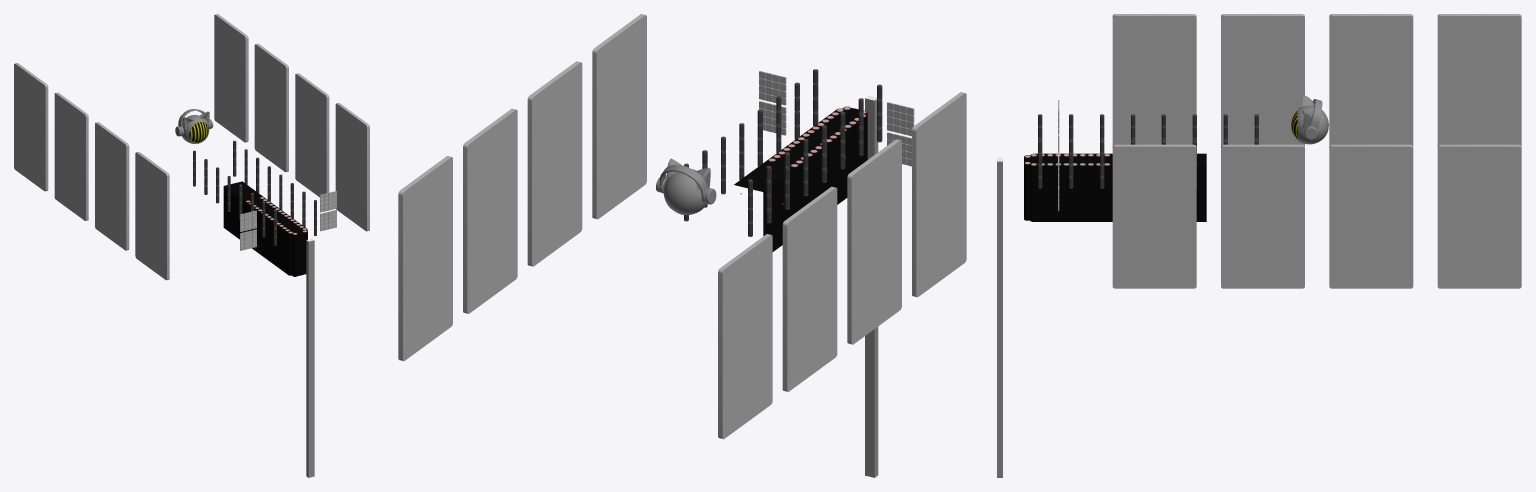
File: monstercat2.glb
The picture shows the model from 3 angles, left to right: view 1: azimuth 30°, elevation 25°; view 2: azimuth 150°, elevation 25°; view 3: azimuth 270°, elevation 25°; orthographic projection. The views are drawn at different scales.
Parts seen in each view (by area): view 1: ScreenMesh (×8), RunwaySides, Construction, TrackMirror_Template, HeadMesh; view 2: ScreenMesh (×8), RunwaySides, Construction, HeadMesh, TrackMirror_Template; view 3: ScreenMesh (×8), RunwaySides, Construction, HeadMesh, TrackMirror_Template.
Part boxes in pixels (x1,y1,x2,y2): ScreenMesh (×8): [14, 14, 369, 280]; RunwaySides: [223, 186, 307, 276]; Construction: [306, 240, 314, 477]; TrackMirror_Template: [224, 181, 305, 233]; HeadMesh: [175, 109, 213, 143]; ScreenMesh (×8): [398, 14, 966, 439]; RunwaySides: [763, 112, 867, 251]; Construction: [865, 98, 878, 477]; HeadMesh: [656, 158, 716, 215]; TrackMirror_Template: [734, 108, 864, 191]; ScreenMesh (×8): [1112, 14, 1521, 288]; RunwaySides: [1024, 156, 1206, 221]; Construction: [997, 161, 1002, 477]; HeadMesh: [1297, 95, 1328, 144]; TrackMirror_Template: [1024, 153, 1206, 165].
Bounding box in the file's own units: 101 × 141 × 170.
Materials: 17 (6 with a texture image).
